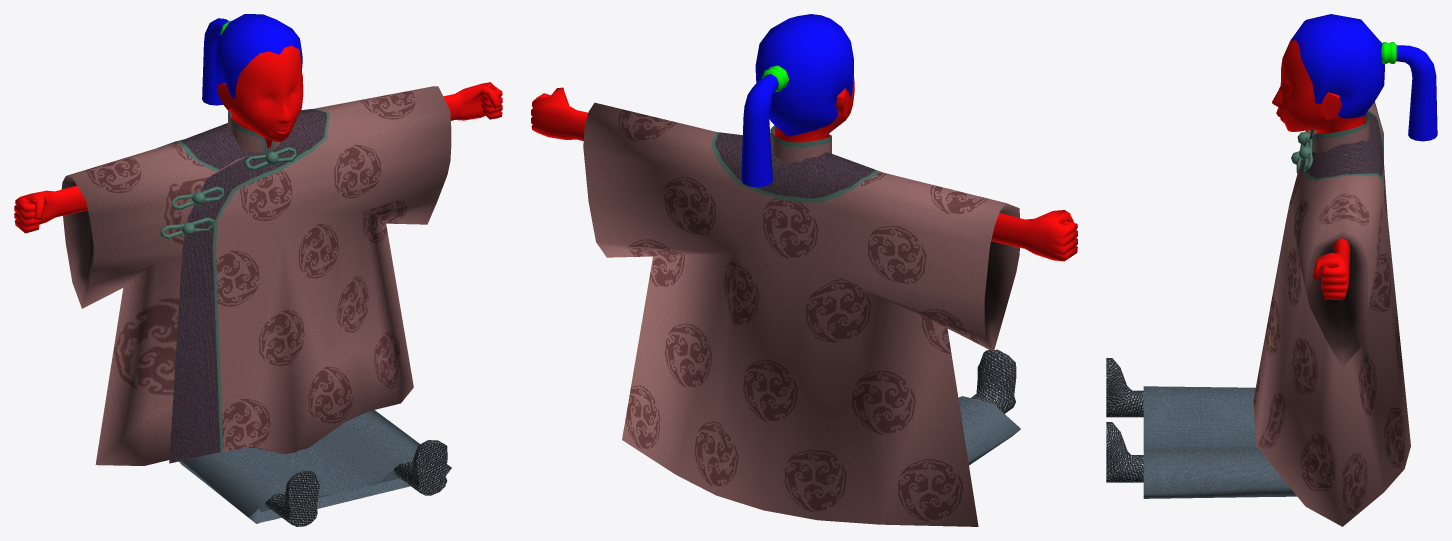
The model's file is glove_puppet03.FBX.
3 views of the same model, side by side, from view 1: azimuth 30°, elevation 25°; view 2: azimuth 150°, elevation 25°; view 3: azimuth 270°, elevation 25° (orthographic). The views are drawn at different scales.
Parts seen in each view (by area): view 1: puppet_cloth, Head_03; view 2: puppet_cloth, Head_03; view 3: puppet_cloth, Head_03.
Boxes of the visible parts, x1,y1,x2,y2 form: puppet_cloth: [61, 86, 451, 526]; Head_03: [14, 14, 502, 233]; puppet_cloth: [583, 102, 1020, 526]; Head_03: [531, 14, 1077, 261]; puppet_cloth: [1106, 101, 1410, 526]; Head_03: [1272, 14, 1437, 299].
Size of the model in its own units: 2.41 by 1.39 by 2.
2 materials, 1 textured.
